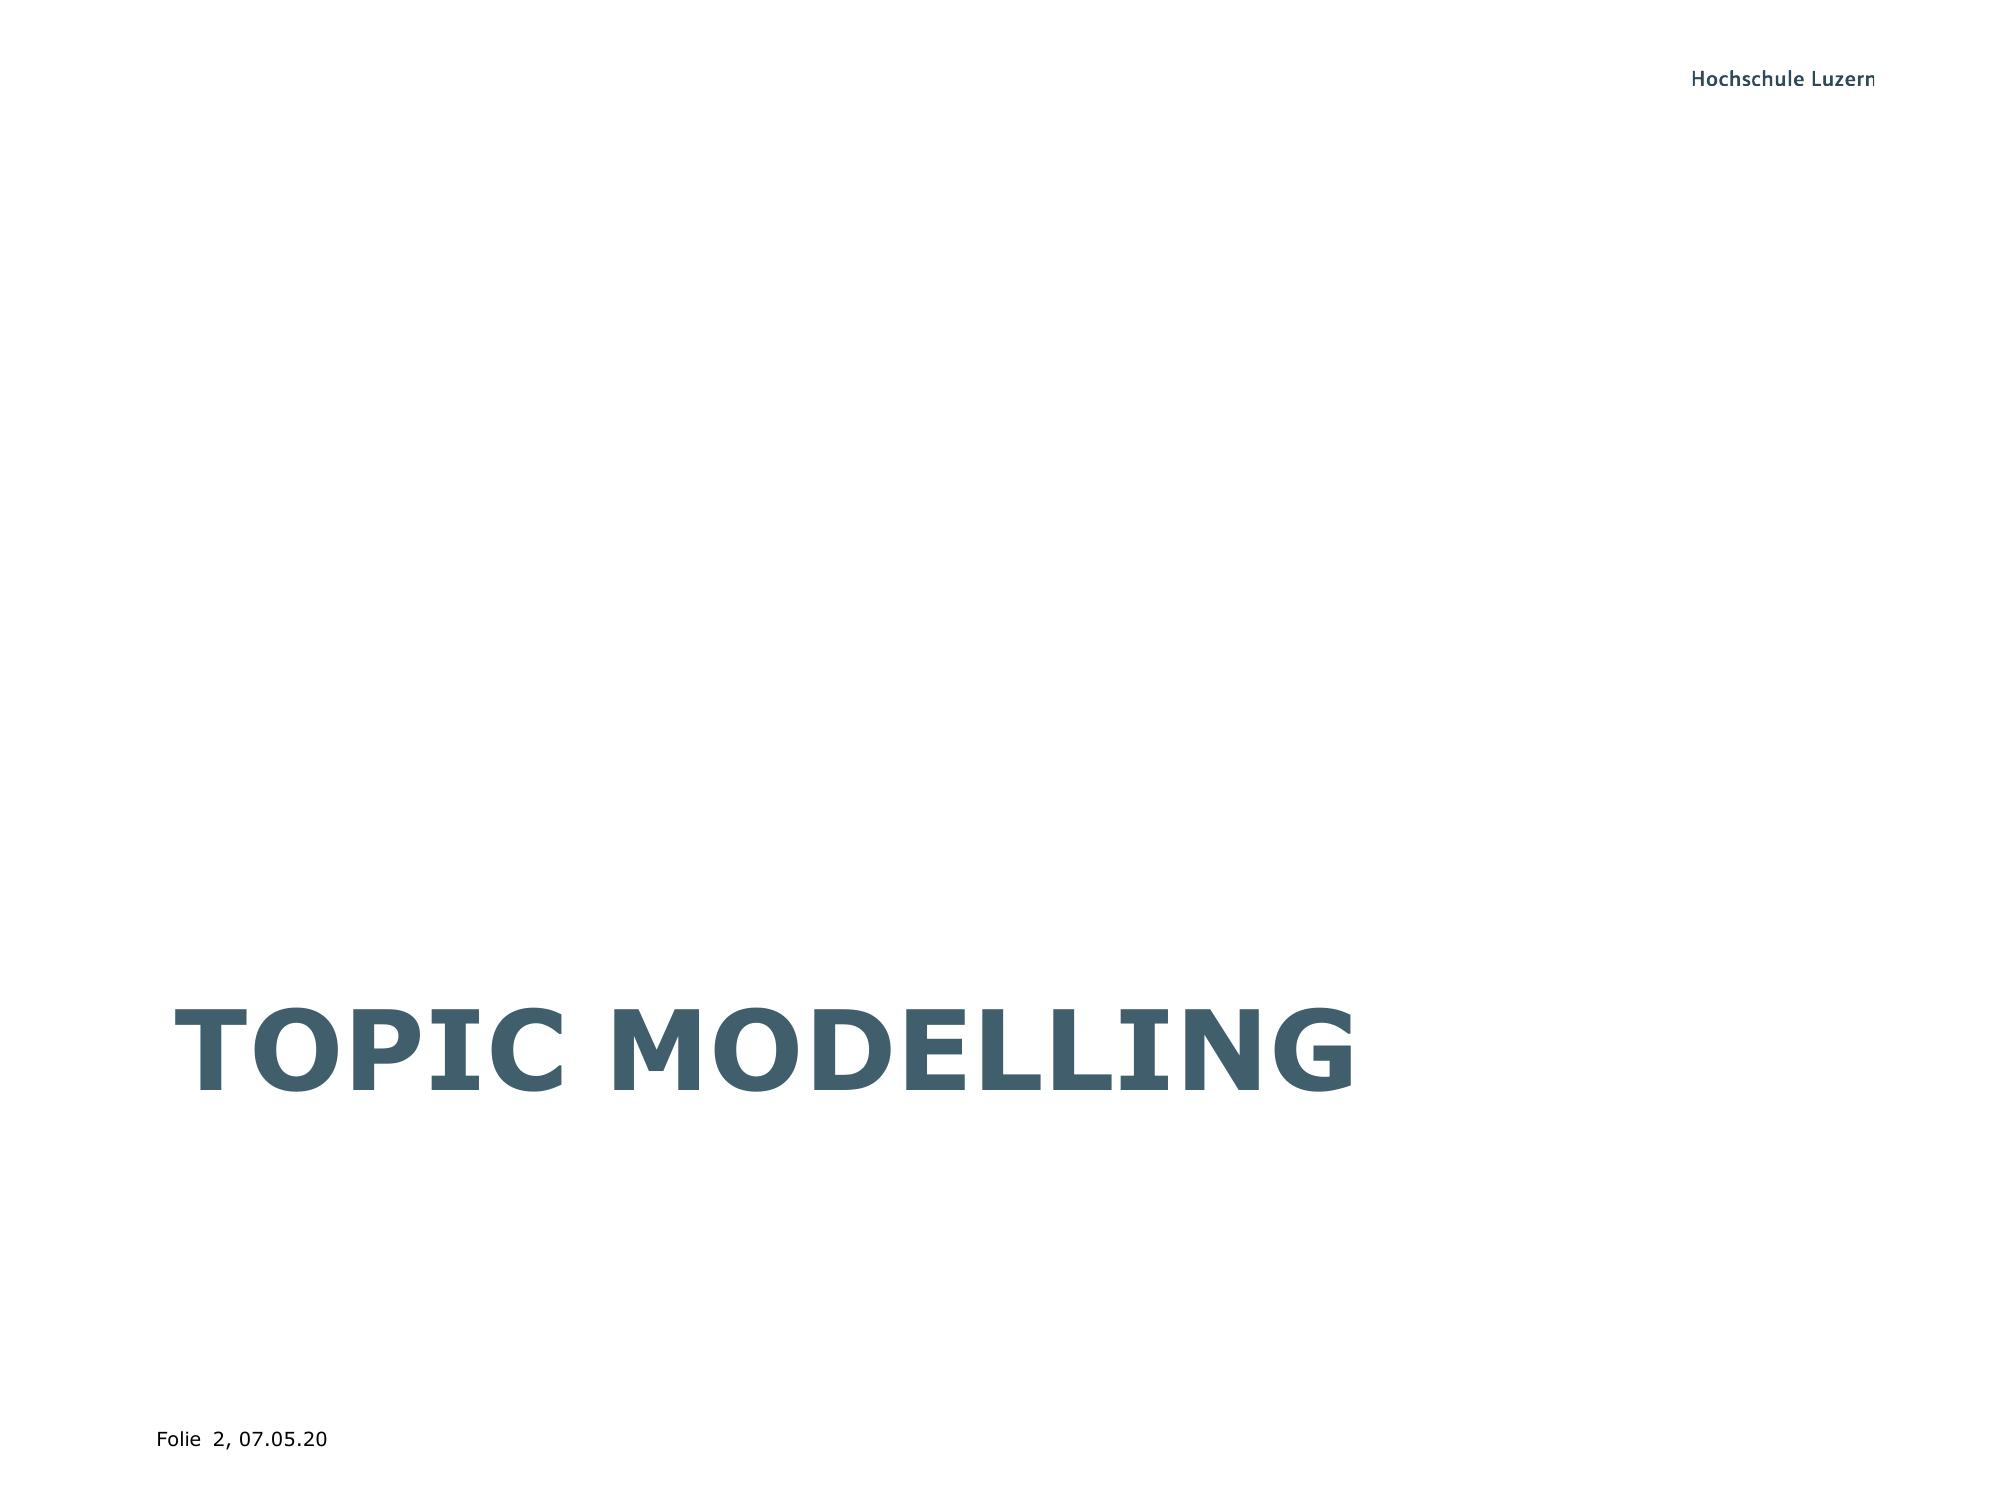Title: (150, 993, 1361, 1109)
